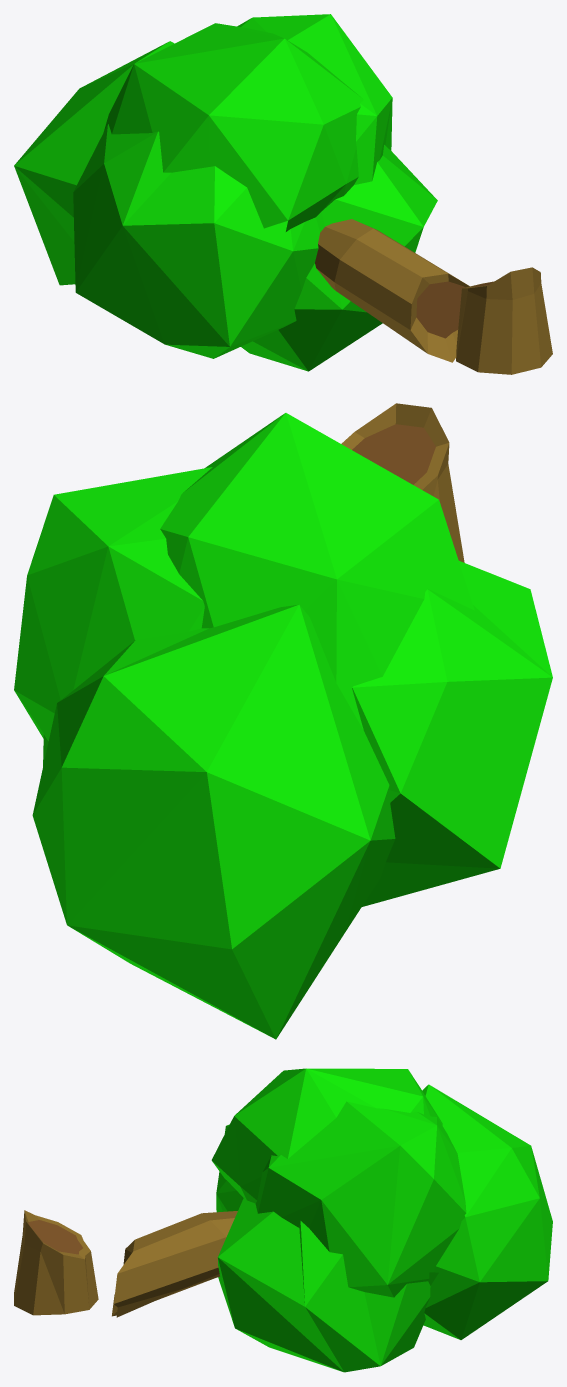
File: Tree#16.fbx
The picture shows the model from 3 angles, top to bottom: view 1: azimuth 30°, elevation 25°; view 2: azimuth 150°, elevation 25°; view 3: azimuth 270°, elevation 25°; orthographic projection. The views are drawn at different scales.
Visible parts, largest first — view 1: Tree#16; view 2: Tree#16; view 3: Tree#16.
Boxes of the visible parts, x1,y1,x2,y2 form: Tree#16: (14,14,552,374); Tree#16: (14,403,552,1039); Tree#16: (14,1068,552,1372).
Bounding box in the file's own units: 346 × 325 × 564.
